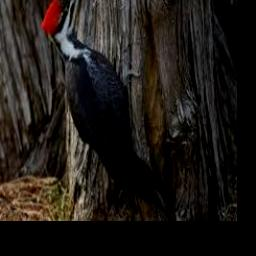Woodpecker: (40, 0, 170, 218)
